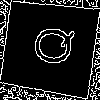Q: (24, 22, 76, 68)
